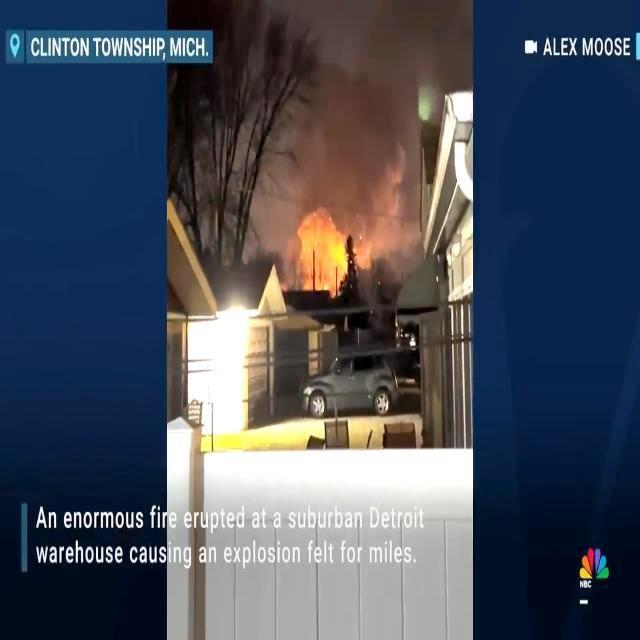fire: (290, 201, 362, 303)
